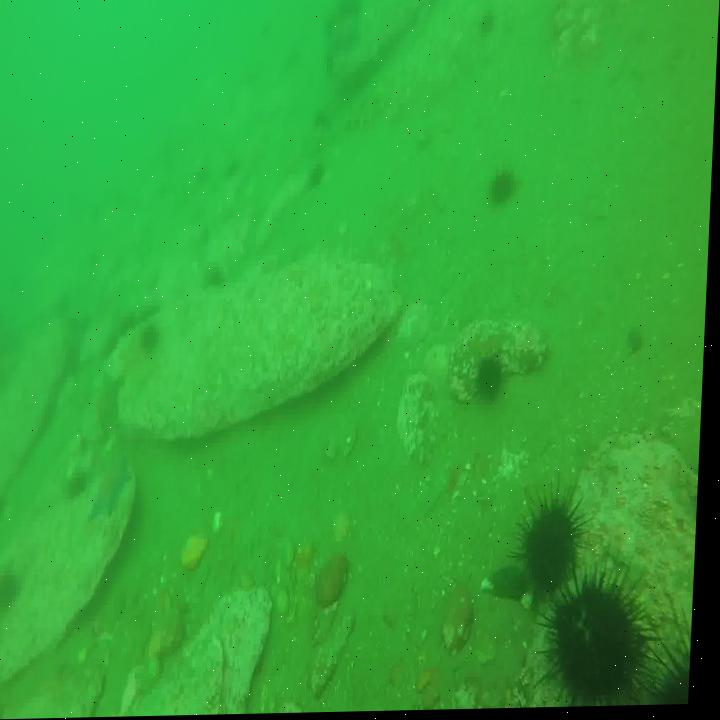echinus: (547, 584, 644, 710), (524, 495, 583, 597), (651, 629, 697, 708), (477, 358, 510, 407), (0, 571, 33, 620), (491, 170, 521, 211), (141, 320, 168, 362), (308, 157, 329, 189), (481, 9, 499, 42)
scallop: (445, 578, 484, 656), (318, 552, 355, 607), (184, 529, 216, 574)
starfish: (92, 458, 138, 521)
